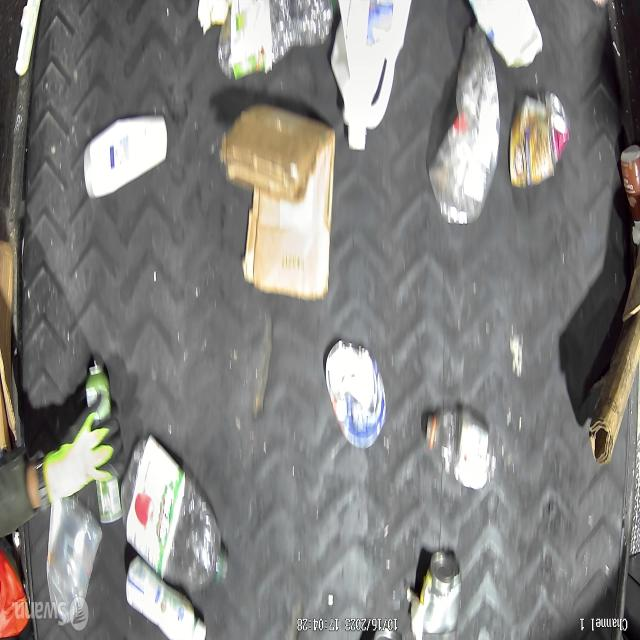can: (510, 90, 574, 194), (324, 344, 386, 449), (416, 554, 466, 633)
milk_jug: (329, 0, 408, 163)
plastic_bottle: (122, 454, 230, 586), (428, 32, 498, 222), (216, 0, 328, 83), (428, 397, 504, 496)
